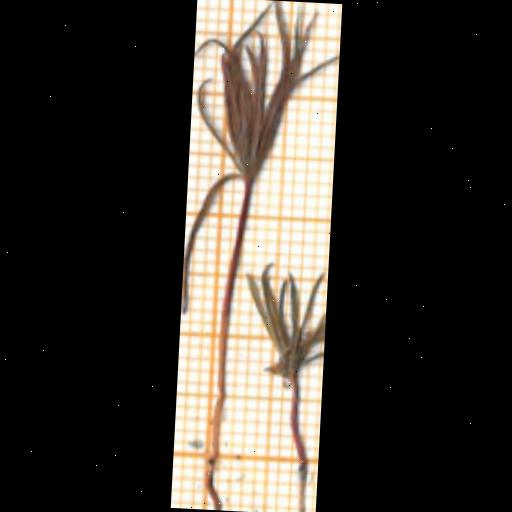flowerPinus: (192, 1, 338, 233), (247, 266, 323, 380)
rootPinus: (204, 455, 221, 508)
stemPinus: (210, 180, 251, 459), (289, 375, 308, 473)
